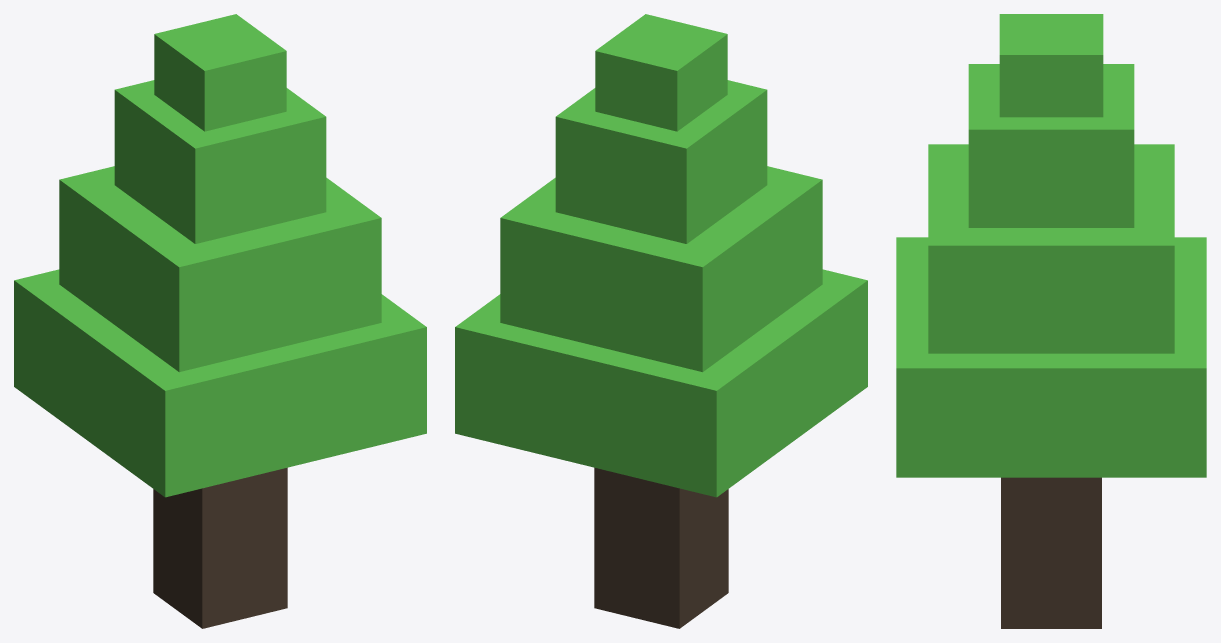
File: Tree.fbx
3 renders of one model, left to right at view 1: azimuth 30°, elevation 25°; view 2: azimuth 150°, elevation 25°; view 3: azimuth 270°, elevation 25°, orthographic. The views are drawn at different scales.
Visible parts, largest first — view 1: polySurface2, polySurface1; view 2: polySurface2, polySurface1; view 3: polySurface2, polySurface1.
Boxes of the visible parts, x1,y1,x2,y2 form: polySurface2: [14, 14, 426, 497]; polySurface1: [153, 467, 287, 628]; polySurface2: [455, 14, 867, 497]; polySurface1: [594, 467, 728, 628]; polySurface2: [896, 14, 1206, 477]; polySurface1: [1001, 477, 1101, 628].
Bounding box in the file's own units: 5.26 × 10.72 × 5.26.
